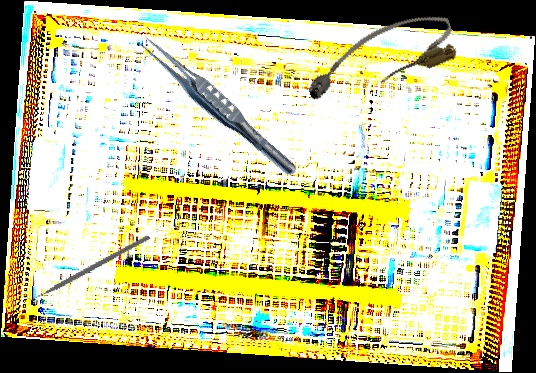Cannula: (297, 5, 462, 110)
Chopper: (19, 195, 152, 338)
Tissue Forceps: (131, 29, 305, 182)
